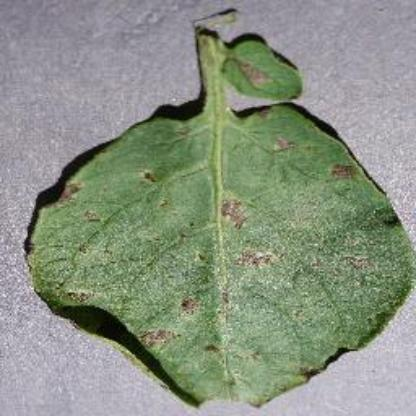Early-Blight: (27, 16, 415, 408)
